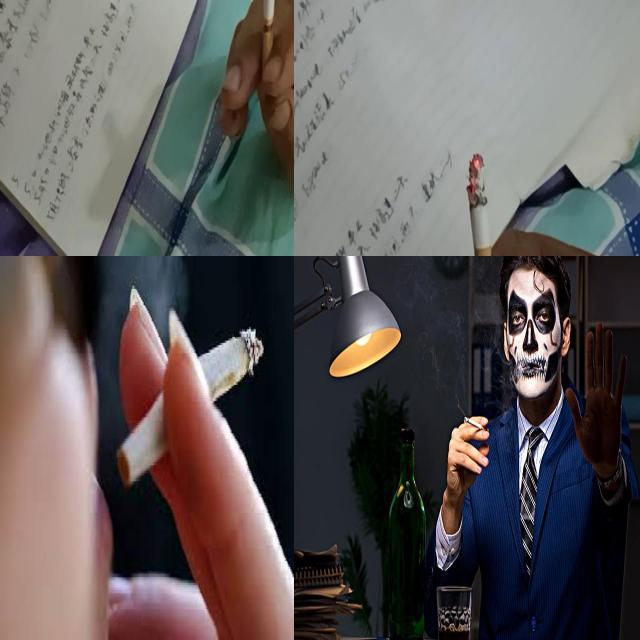cigarette: (118, 328, 264, 486), (467, 152, 497, 255), (260, 0, 278, 91), (463, 416, 490, 434)
